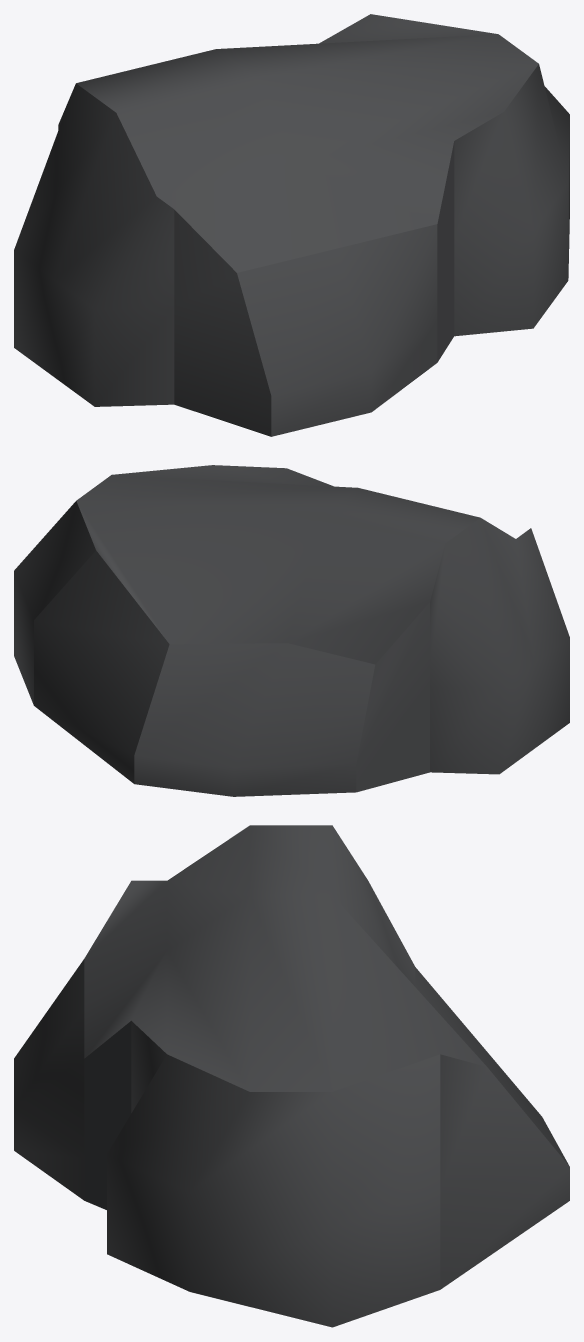
File: Rock Textured.FBX
3 renders of one model, top to bottom at view 1: azimuth 30°, elevation 25°; view 2: azimuth 150°, elevation 25°; view 3: azimuth 270°, elevation 25°, orthographic. The views are drawn at different scales.
Parts seen in each view (by area): view 1: Rock; view 2: Rock; view 3: Rock.
Boxes of the visible parts, x1,y1,x2,y2 form: Rock: (14,14,569,436); Rock: (14,465,569,796); Rock: (14,825,569,1327).
Bounding box in the file's own units: 9.03 × 3.87 × 7.64.
1 material, 1 textured.
